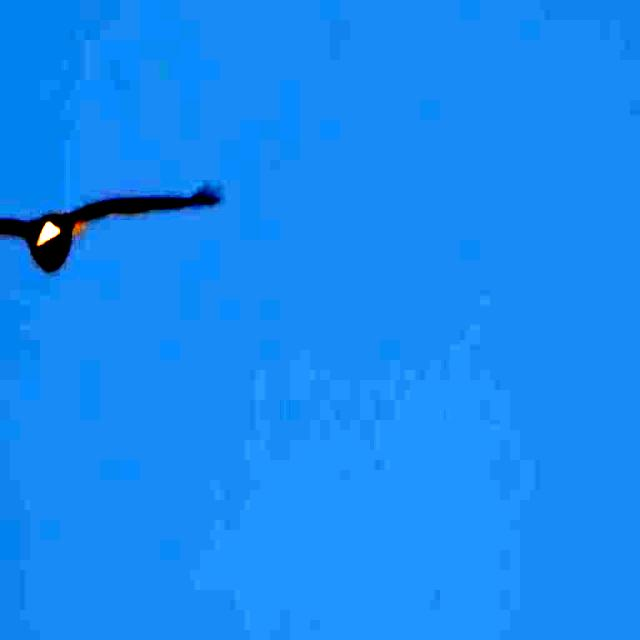airplane: (0, 184, 222, 280)
